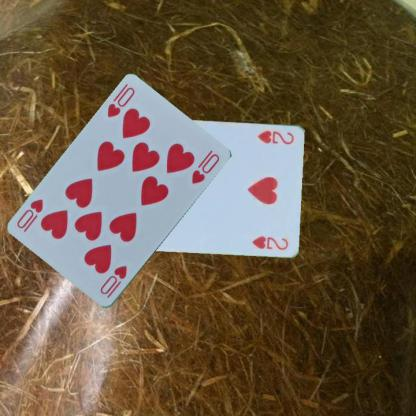10h: (103, 84, 136, 119), (97, 263, 129, 296)
2h: (256, 127, 296, 146)
